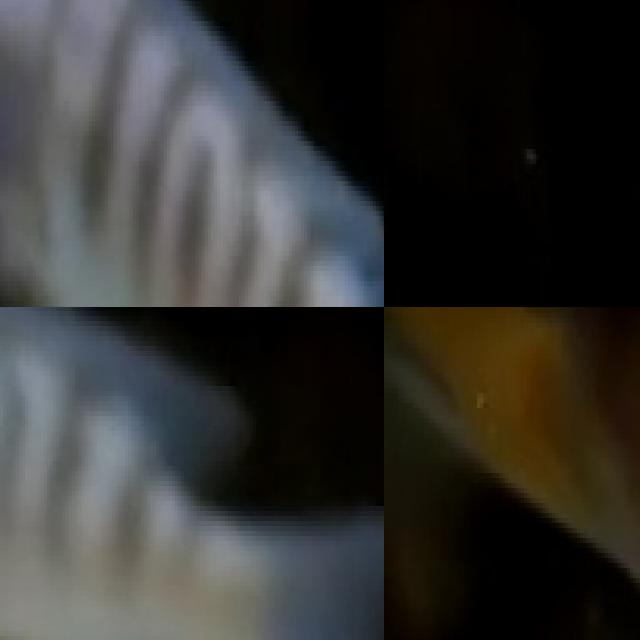fish: (0, 307, 384, 640), (0, 0, 384, 307)
